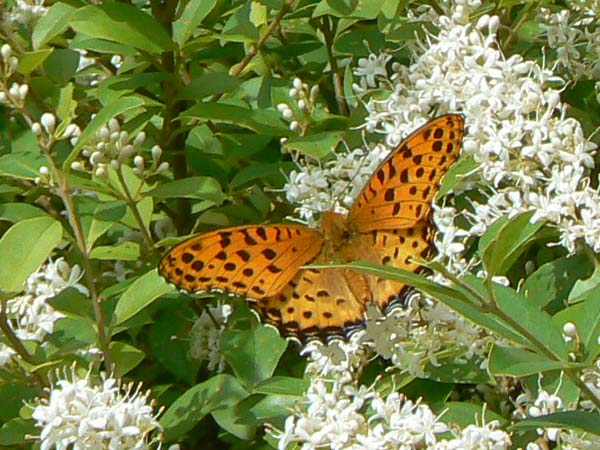Argyreus hyperbius: (153, 108, 472, 345)
butterfly: (155, 110, 474, 347)
